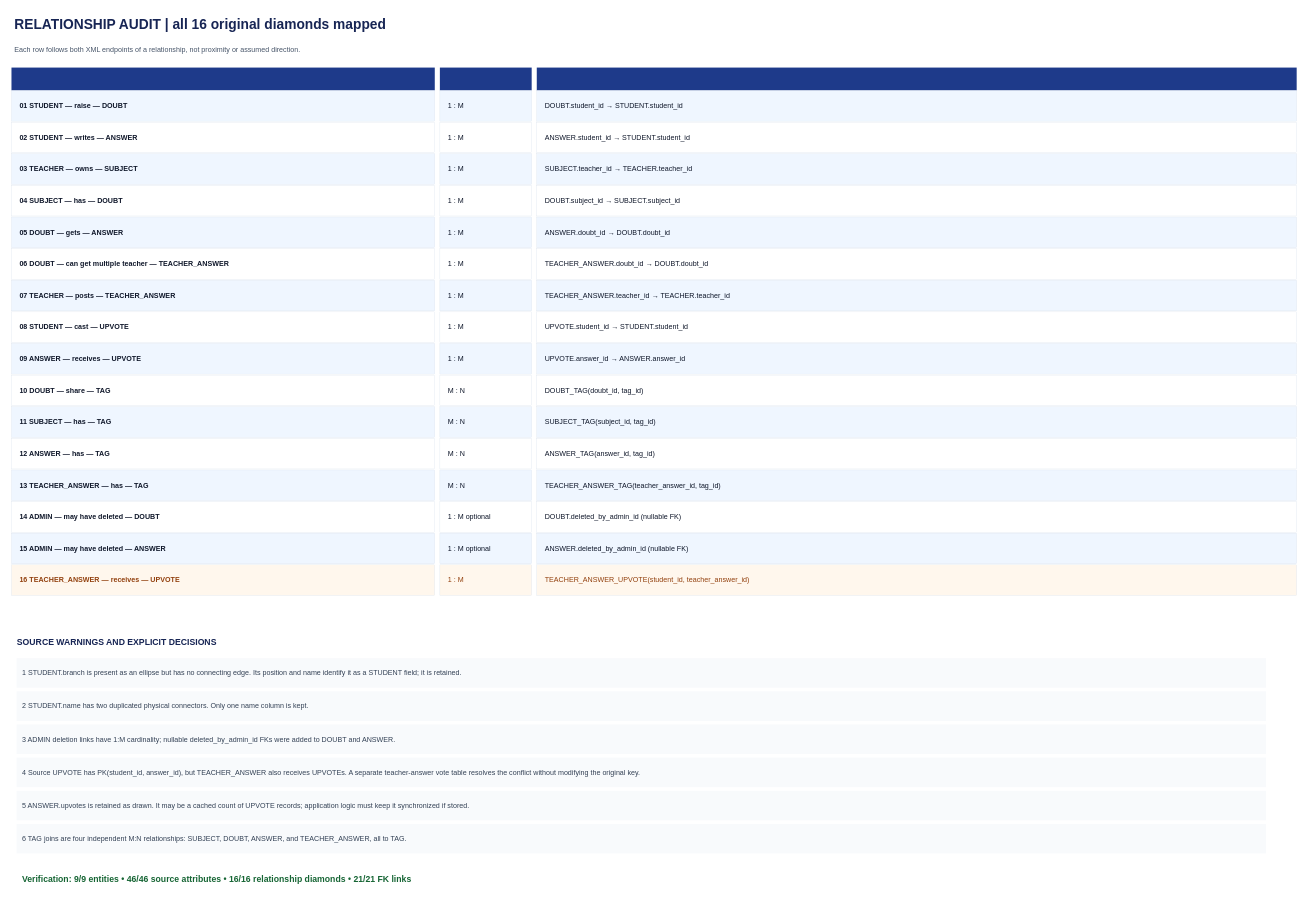
Image size: 1306x902. Some labels were removed from this diagram. The centre of each missing label's shape, as x and y in pixels:
CARDINALITY: point 485,78
RELATIONAL IMPLEMENTATION: point 916,78
SOURCE CONNECTOR: point 223,78
